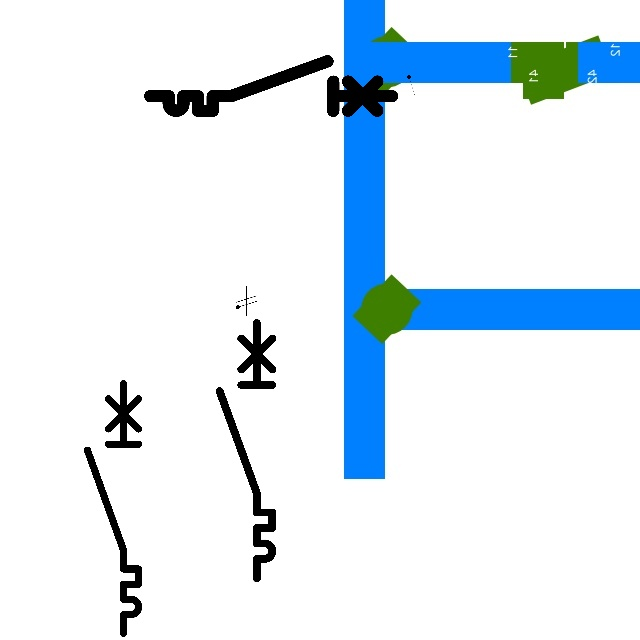interruptor_termomagnetico: (213, 316, 279, 585), (81, 377, 145, 640), (144, 55, 398, 117)
